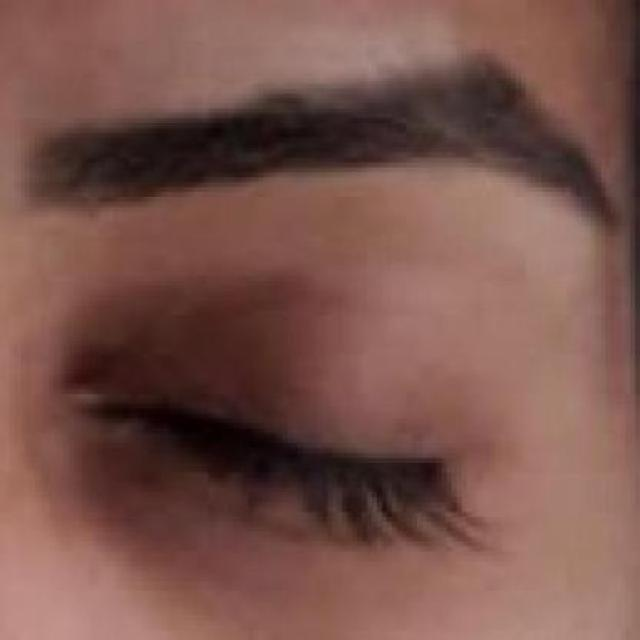drowsy: (83, 292, 446, 623)
